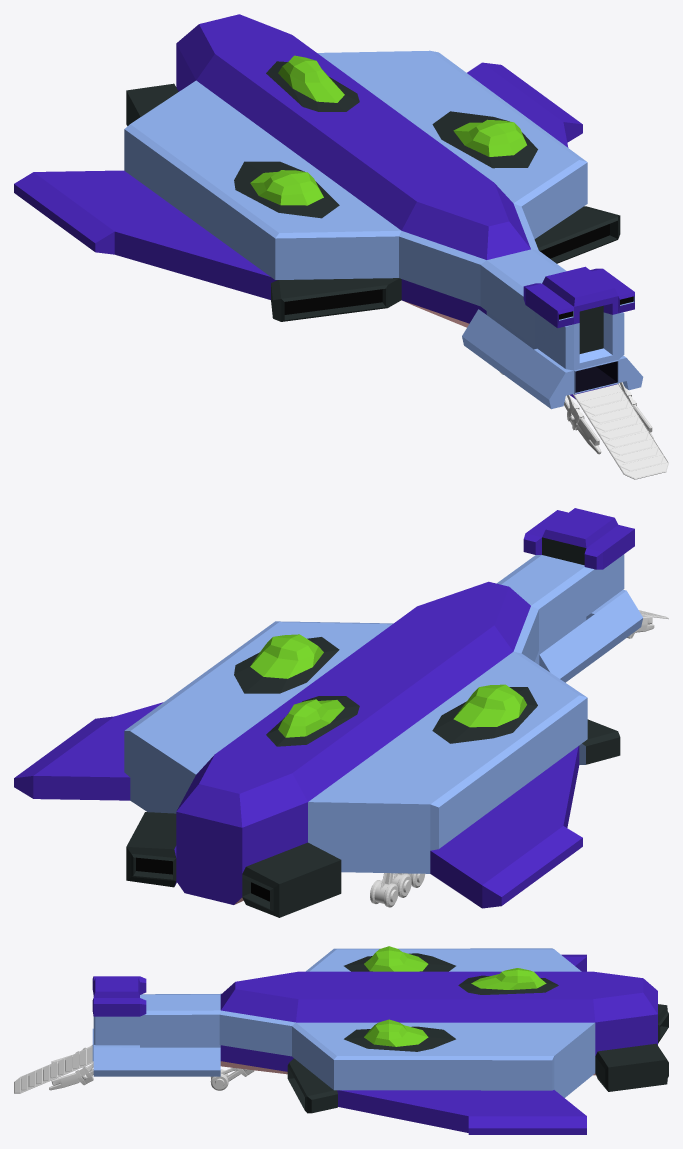
The model's file is Main Landing Ship.FBX.
3 views of the same model, one above another, from view 1: azimuth 30°, elevation 25°; view 2: azimuth 150°, elevation 25°; view 3: azimuth 270°, elevation 25° (orthographic). The views are drawn at different scales.
Parts seen in each view (by area): view 1: Boîte001, Boîte011, Boîte010; view 2: Boîte001, Cylindre003; view 3: Boîte001, Boîte011, Boîte009.
Boxes of the visible parts, x1,y1,x2,y2 form: Boîte001: (14,14,643,409); Boîte011: (573,383,668,479); Boîte010: (564,395,601,454); Boîte001: (14,508,642,917); Cylindre003: (370,880,398,907); Boîte001: (92,946,668,1134); Boîte011: (14,1046,93,1093); Boîte009: (49,1063,93,1090).
Size of the model in its own units: 88.07 by 28 by 140.
